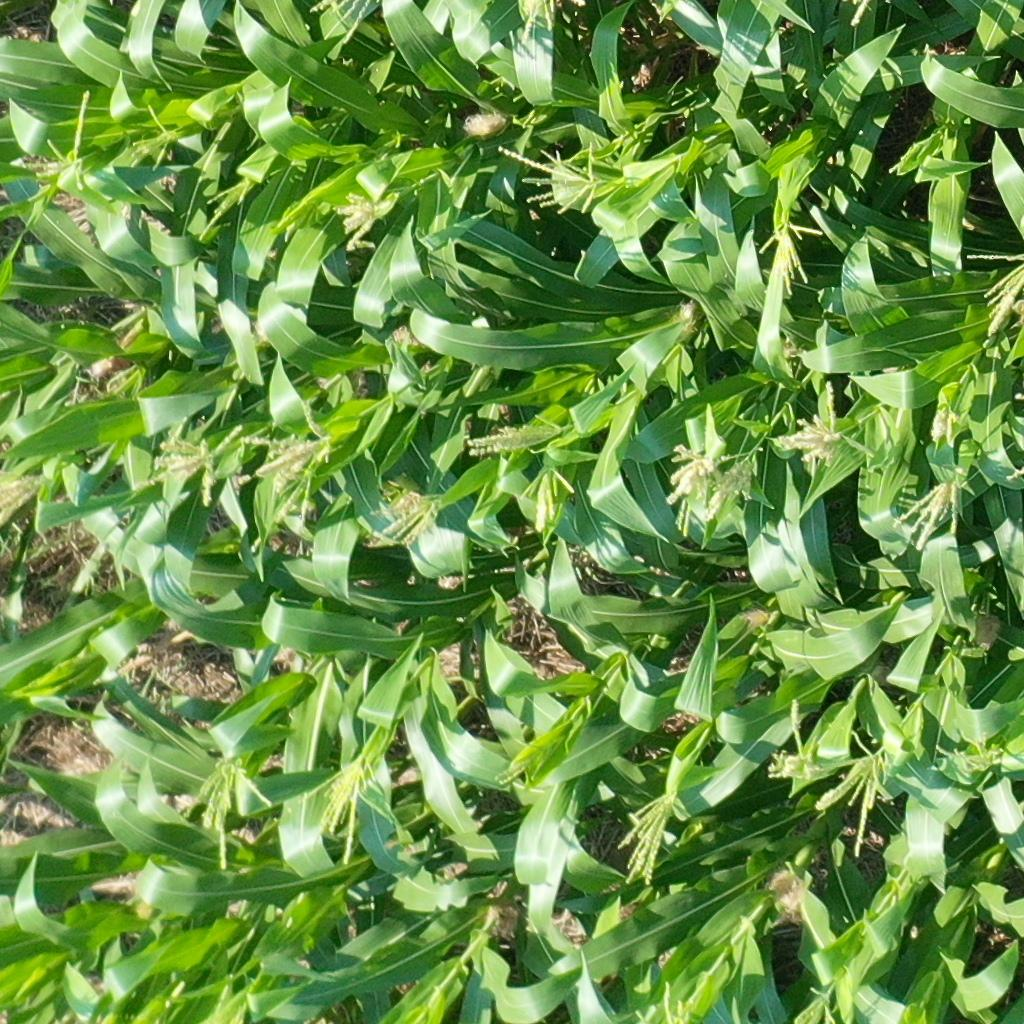Tassel: (244, 400, 334, 527), (178, 756, 274, 874), (815, 730, 900, 860), (149, 412, 245, 509), (303, 755, 380, 865), (493, 136, 601, 212), (768, 378, 856, 469), (614, 792, 694, 890), (30, 89, 97, 196), (966, 246, 1024, 343), (754, 220, 824, 299), (890, 476, 960, 554), (765, 698, 825, 787), (367, 484, 442, 555), (930, 722, 1012, 782), (463, 413, 571, 458), (705, 445, 763, 521), (196, 175, 252, 244), (332, 188, 391, 253), (307, 1, 386, 49), (124, 102, 177, 173), (520, 465, 573, 536), (1, 470, 53, 531), (664, 443, 714, 506), (519, 1, 586, 47), (792, 981, 840, 1024), (927, 400, 963, 453), (651, 978, 691, 1024), (493, 753, 540, 787), (887, 139, 929, 174), (229, 1002, 247, 1024)
